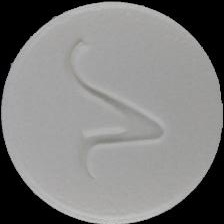43353-993: (0, 0, 224, 224)
